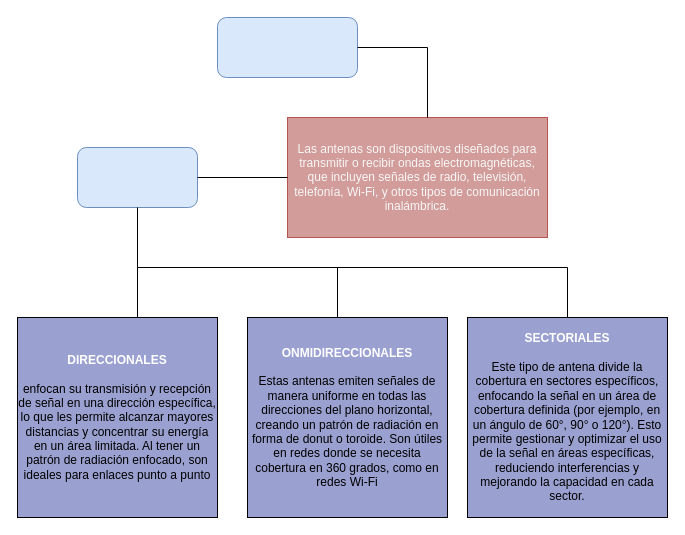
This 685x535 diagram has some shape labels left out. The shapes that lost their labels are listed below. From the top down, each one's centre as x and y in pixels, then its label:
the point at 287,47: ¿QUE SON LAS ANTENAS?
the point at 137,177: TIPOS
